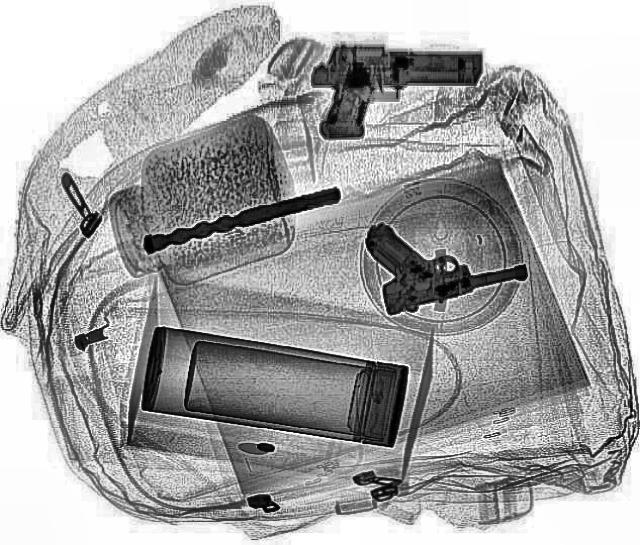Gun: (348, 192, 530, 318), (306, 42, 482, 142)
